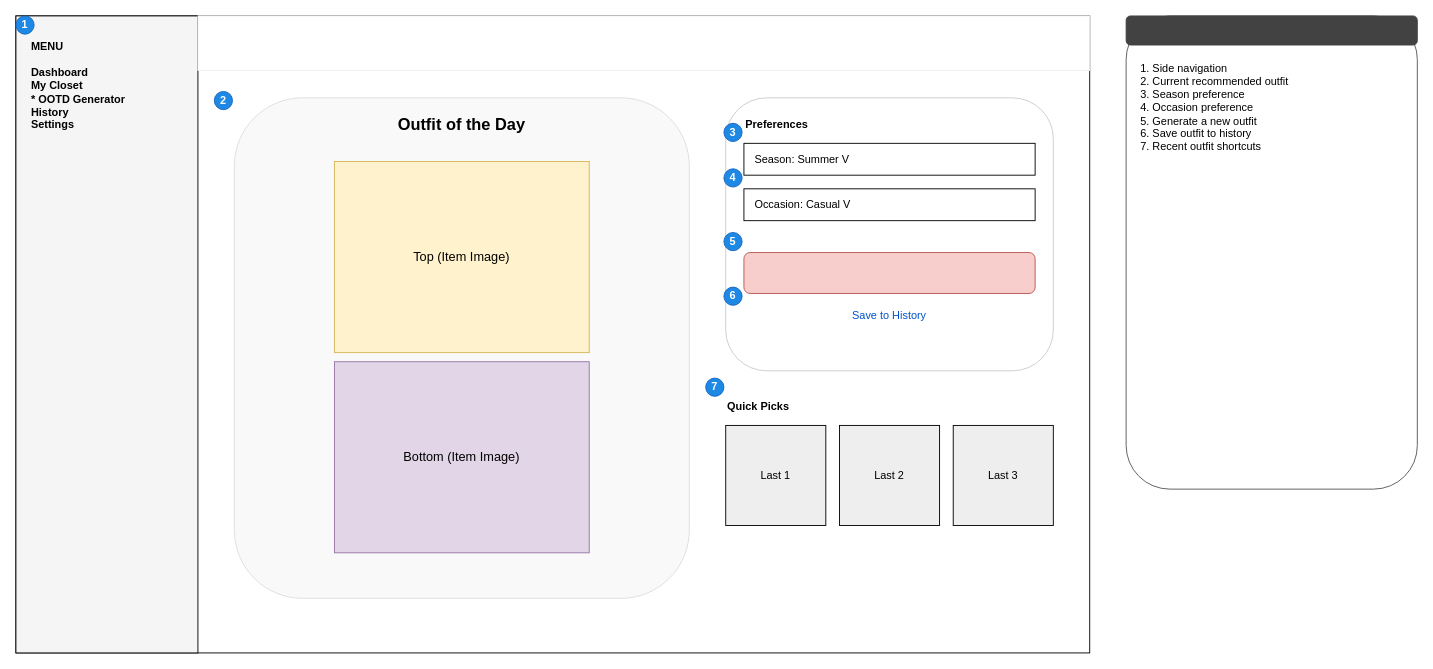
Image size: 1433x669. Some labels were removed from this diagram. Here are the shapes that lost their labels. From the top down, the centre of each, then its label:
the point at 643,43: OOTD Generator - Outfit of the Day
the point at 1271,30: Annotated Notes
the point at 889,272: Generate New Outfit
